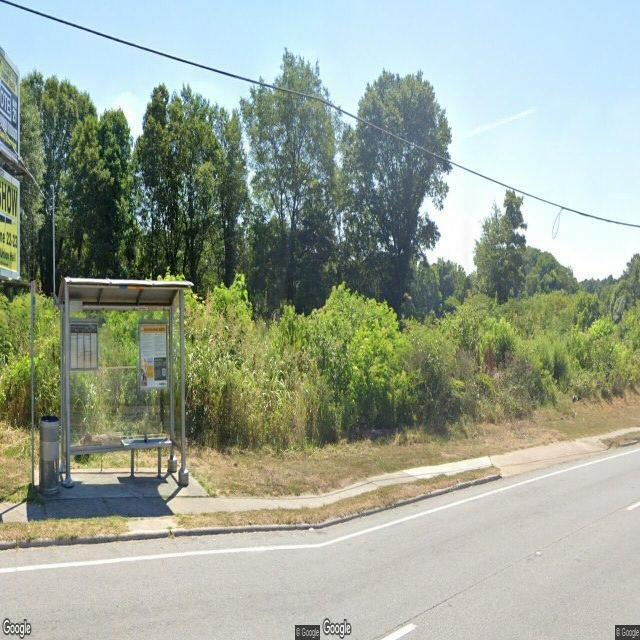seating: (121, 432, 171, 481)
shelter: (58, 276, 195, 490)
trash_can: (39, 417, 60, 498)
